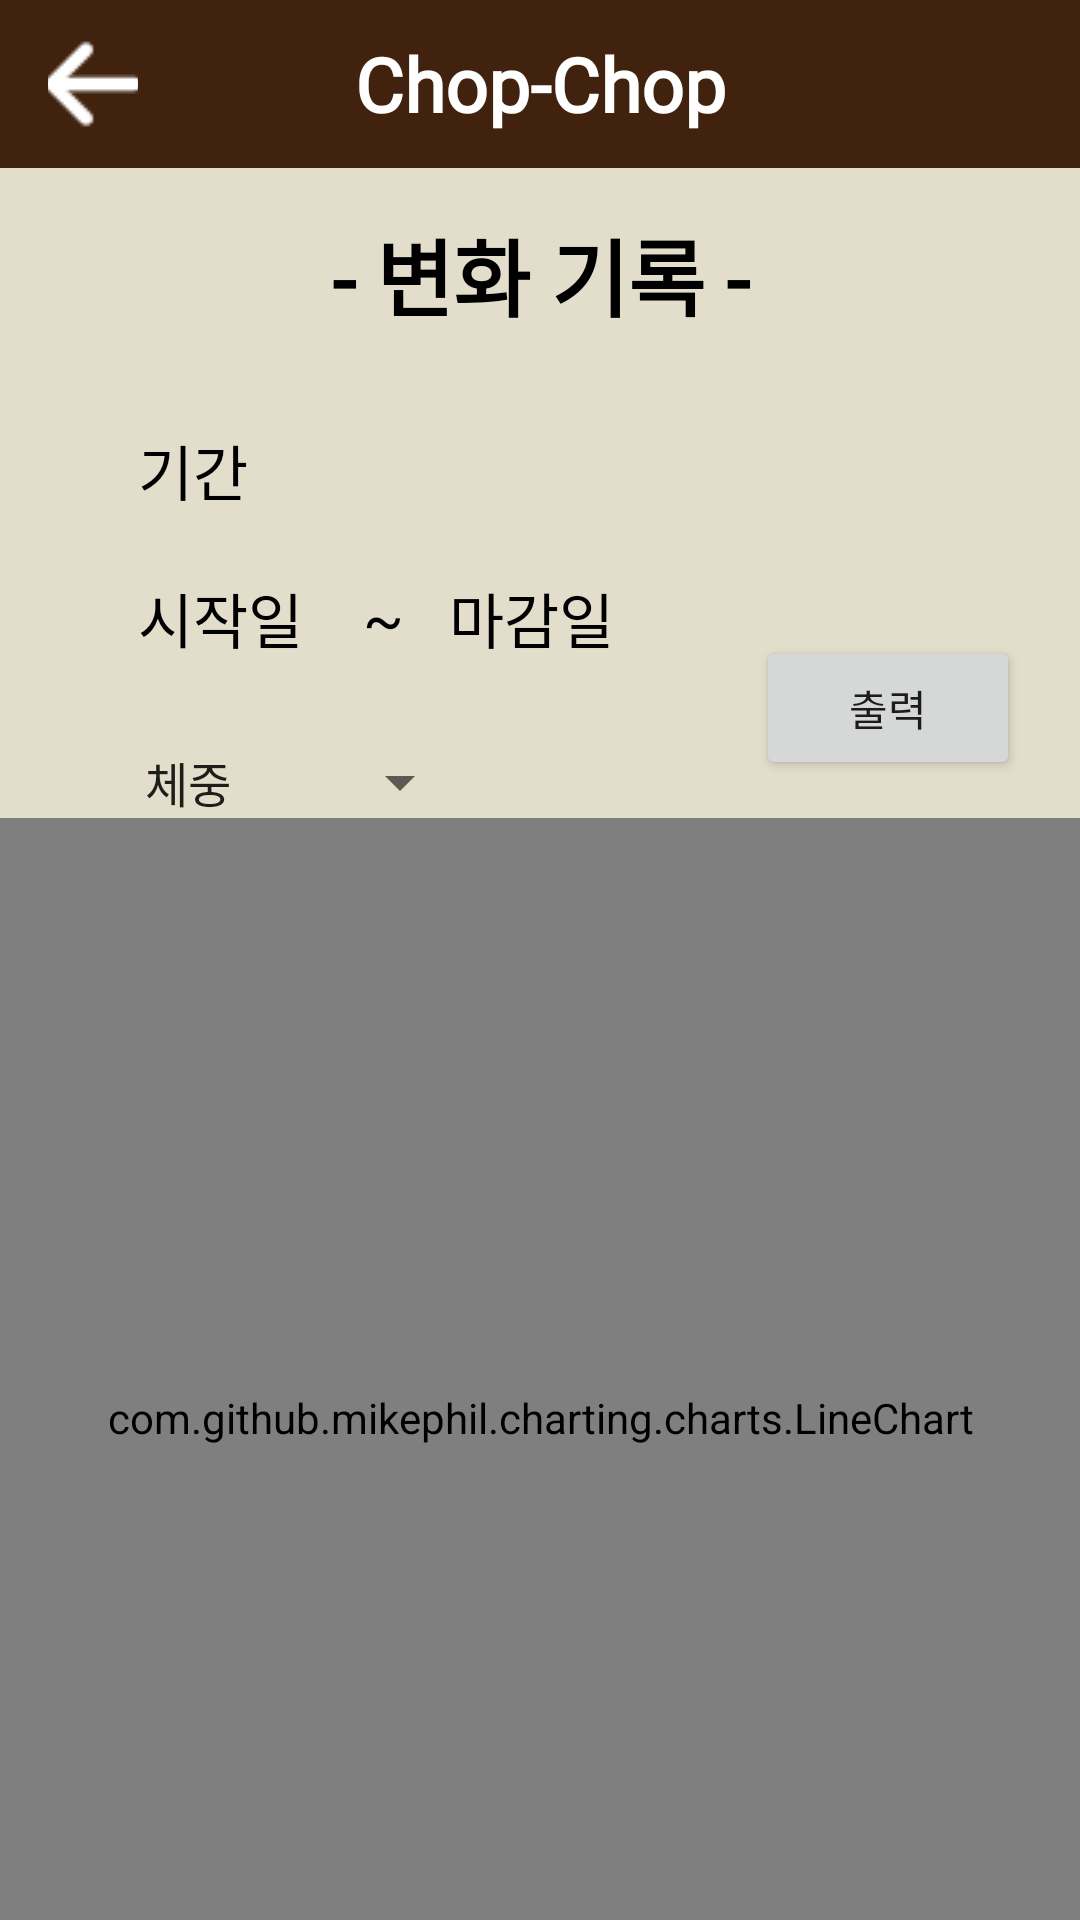

Locate icon controls on the screen. Image size 1080px x 1920px, boxes as [left=x1, top=y1, right=x2, bottom=y2].
back: [left=48, top=41, right=138, bottom=127]
